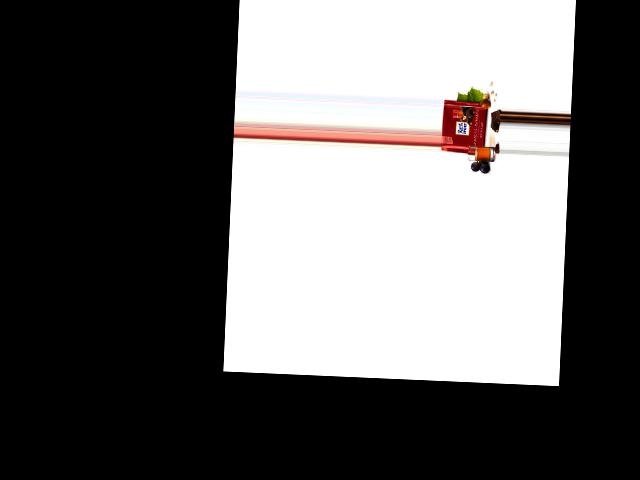chocolate: (441, 98, 487, 153)
